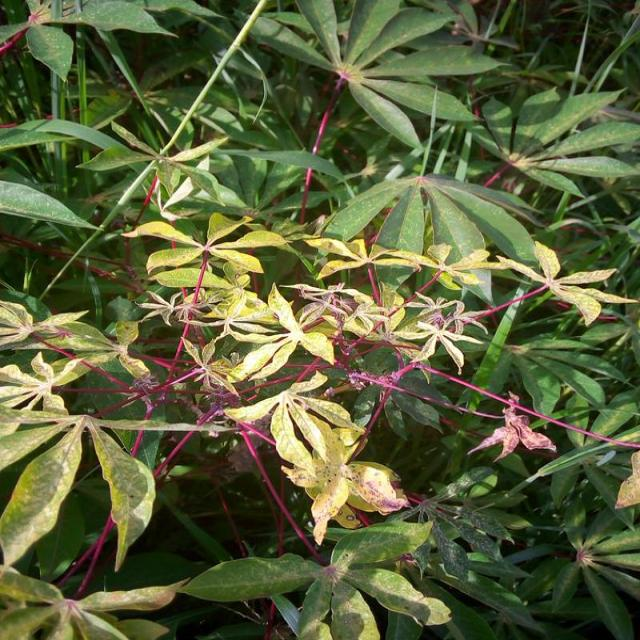cassava leaf: (0, 0, 638, 638), (319, 172, 542, 306)
